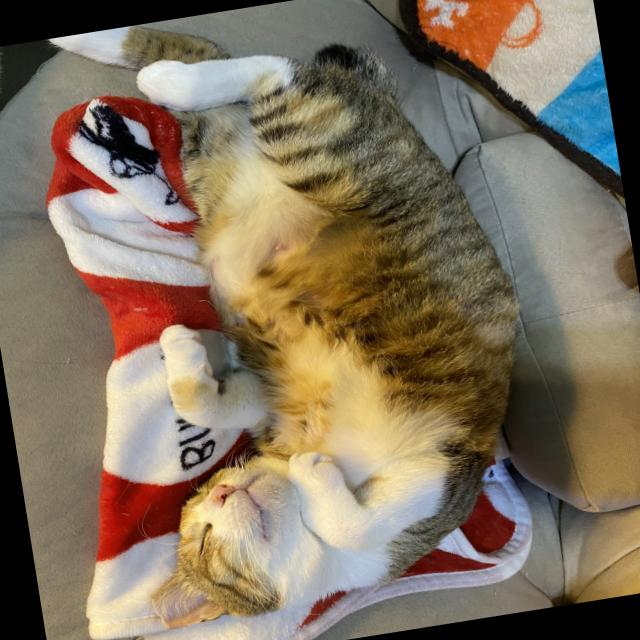cat2: (79, 6, 554, 632)
